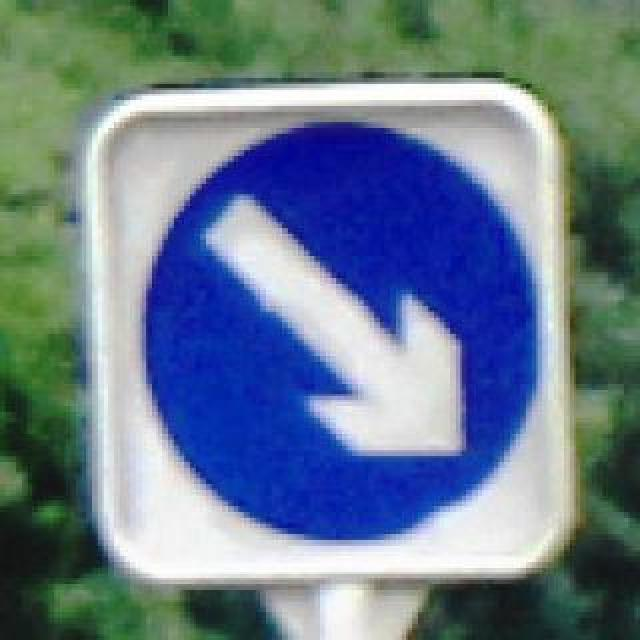keep right: (126, 112, 542, 536)
